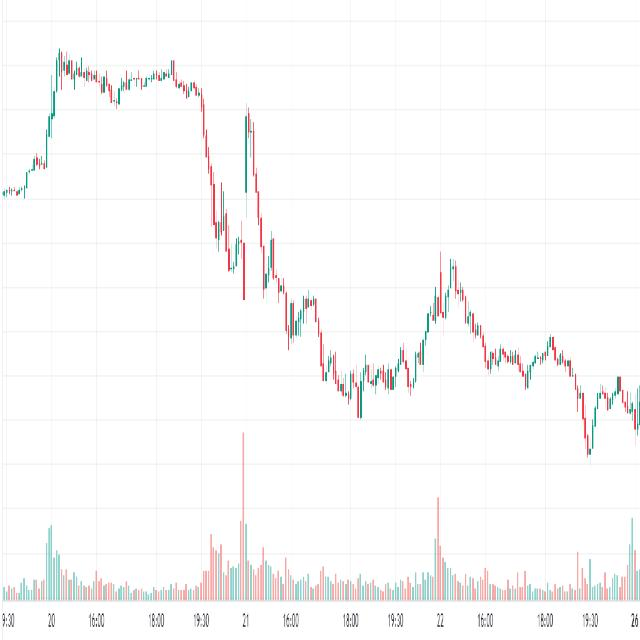Head-Shoulders: (214, 97, 292, 357)
Rounding-Bottom: (188, 44, 467, 433)
